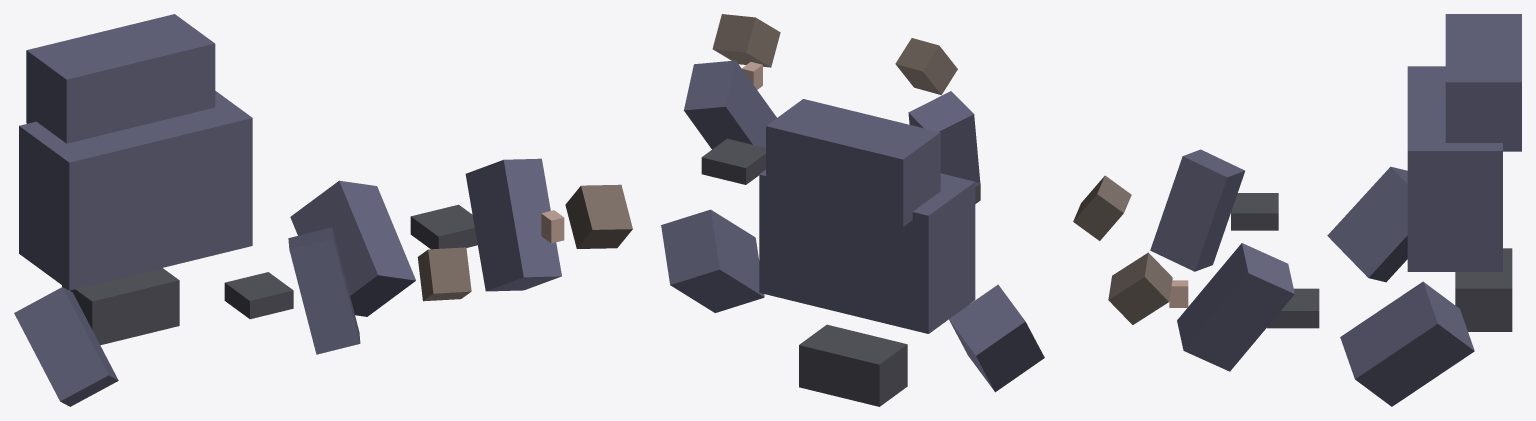
The model's file is fps-arms.gltf.
3 views of the same model, side by side, from view 1: azimuth 30°, elevation 25°; view 2: azimuth 150°, elevation 25°; view 3: azimuth 270°, elevation 25° (orthographic). The views are drawn at different scales.
Parts seen in each view (by area): view 1: fps-arms; view 2: fps-arms; view 3: fps-arms.
Boxes of the visible parts, x1,y1,x2,y2 form: fps-arms: (14,14,632,406); fps-arms: (661,14,1044,406); fps-arms: (1073,14,1521,406).
Size of the model in its own units: 0.5359 by 0.3256 by 0.4708.
